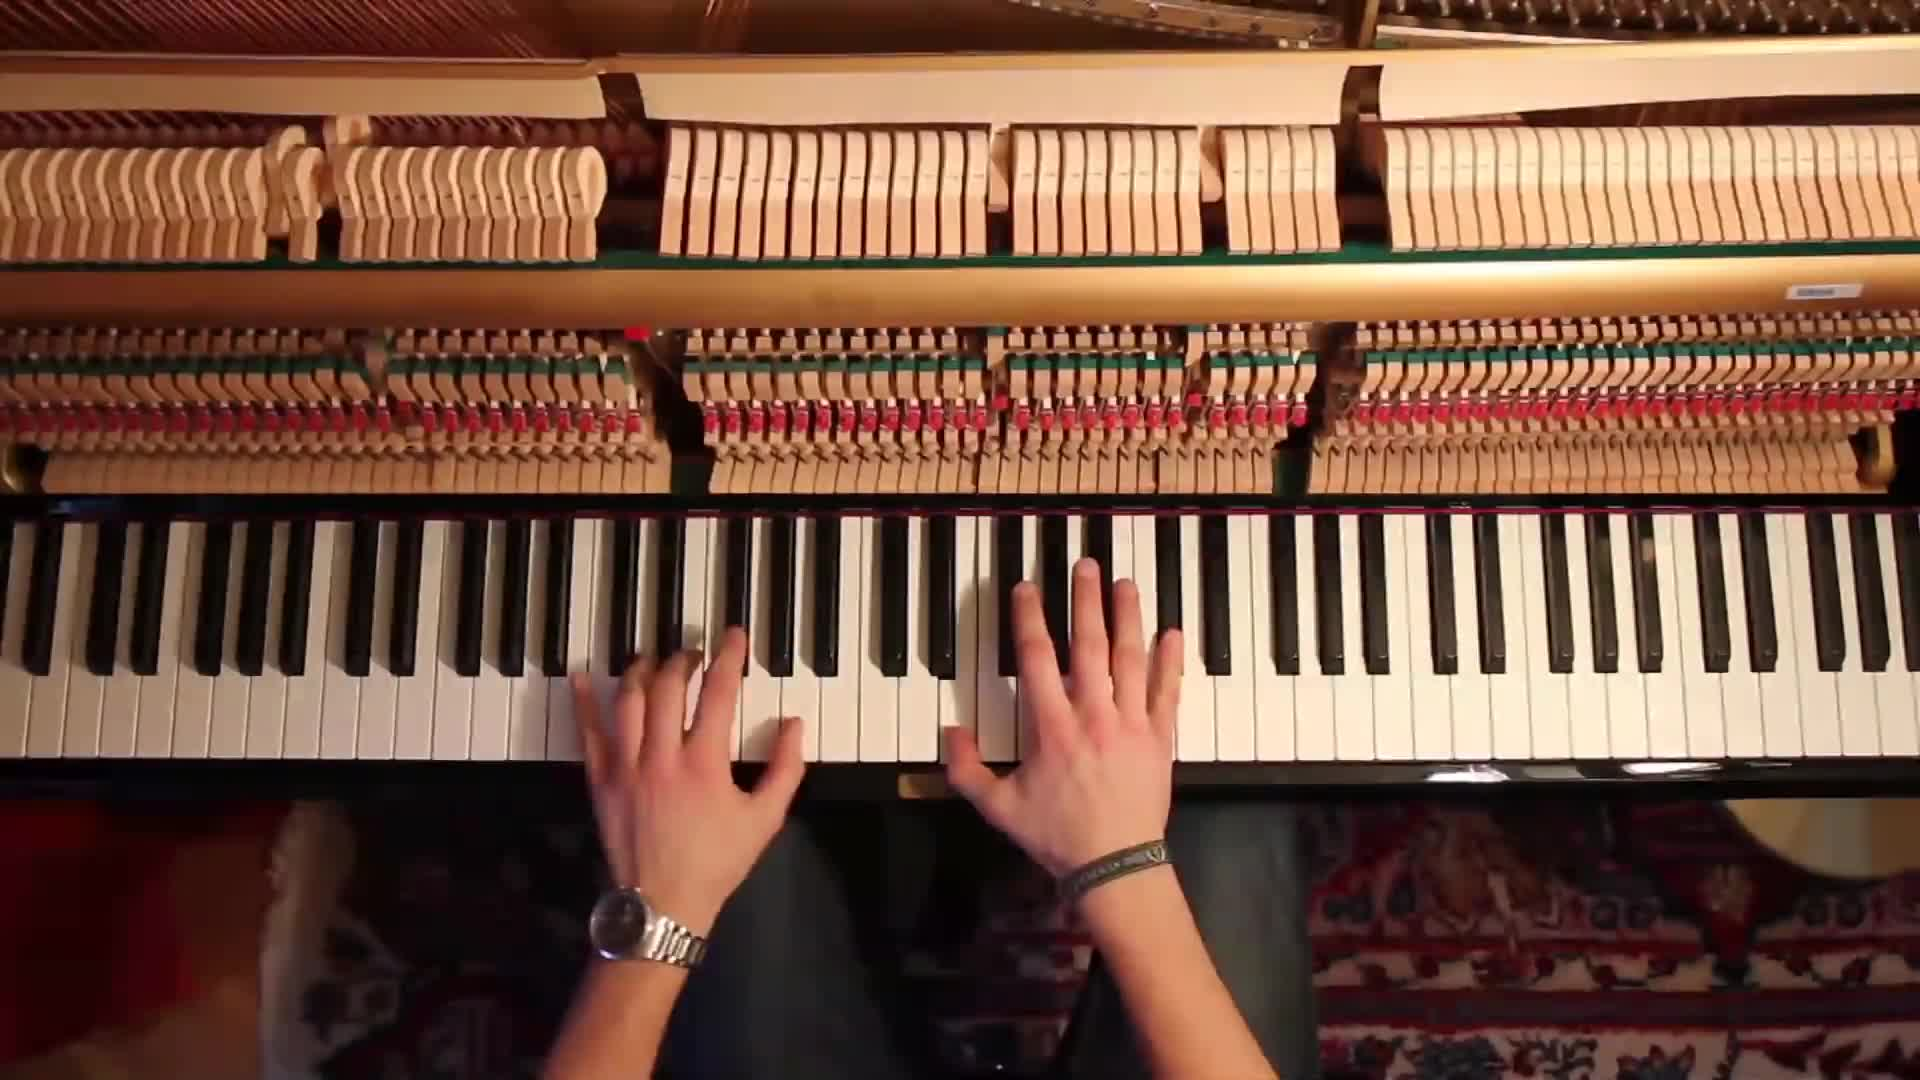left: (556, 621, 806, 905)
right: (942, 554, 1189, 884)
